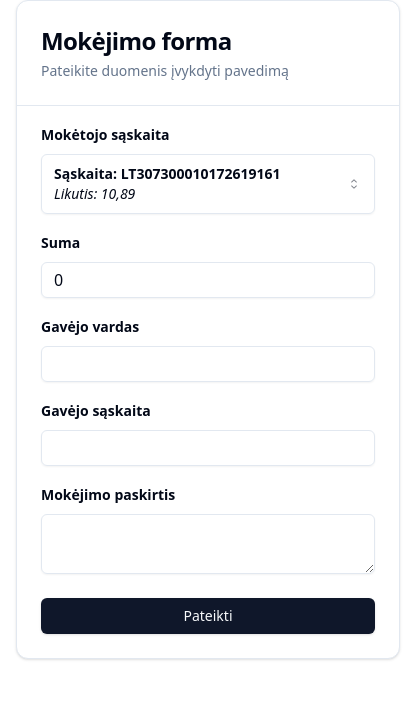
Scenario: PaymentForm: Validator › should fail when purpose is too short
This screenshot has width=417, height=704.
Type "10" into the field labelled "Suma".
click(208, 280); type("10")  # box [41,262,375,298]
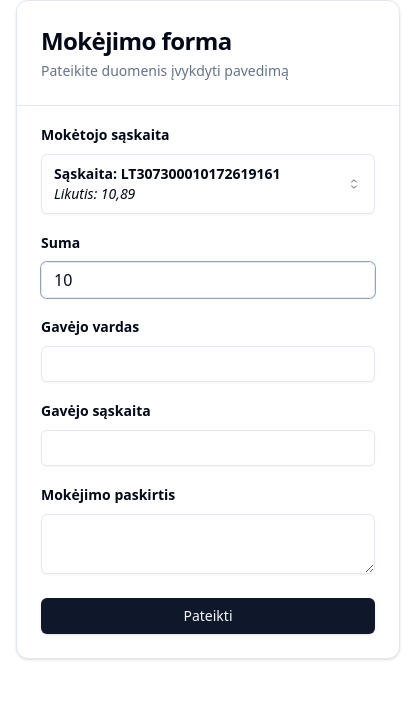
Type "LT307300010172619164" into the field labelled "Gavėjo sąskaita".
click(208, 448); type("LT307300010172619164")  # box [41,430,375,466]
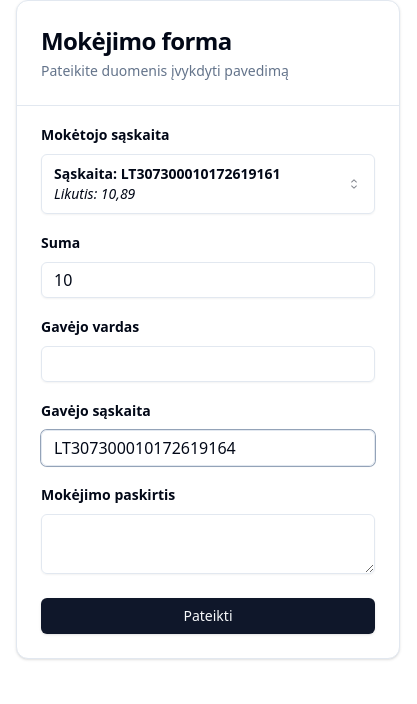
Type "Ona Marija" into the field labelled "Gavėjo vardas".
click(208, 364); type("Ona Marija")  # box [41,346,375,382]
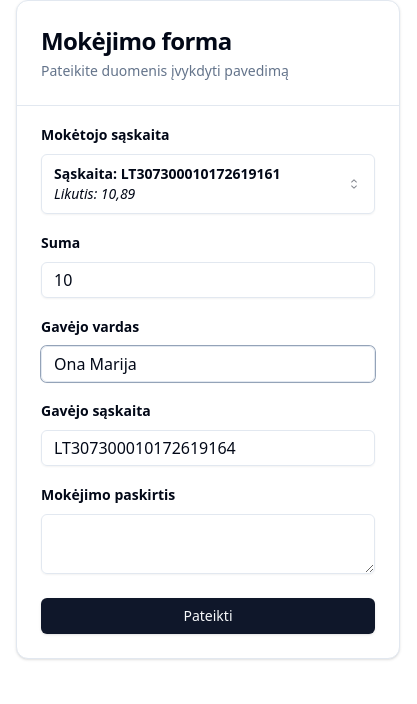
Type "aa" into the text box labelled "Mokėjimo paskirtis".
click(208, 544); type("aa")  # box [41,514,375,574]
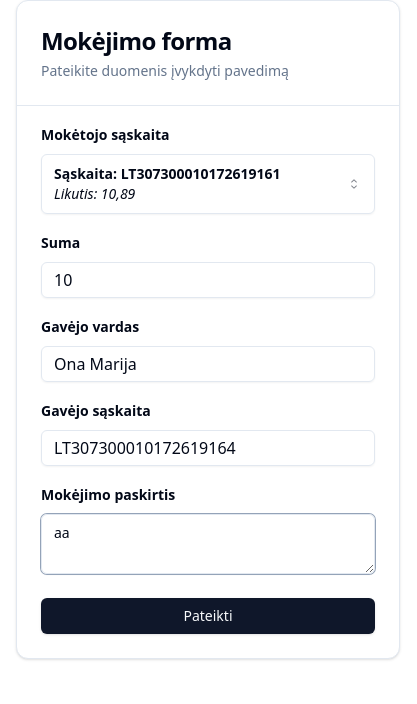
Click the button "Pateikti".
click(208, 616)  # box [41,598,375,634]
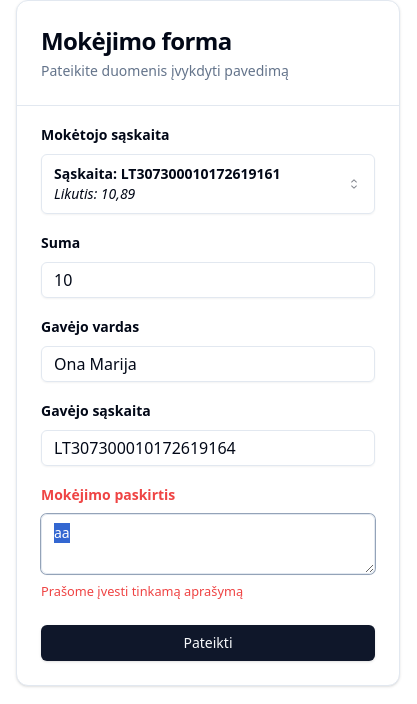
Now the text "Prašome įvesti tinkamą aprašymą" is shown, box [41,582,243,600]
